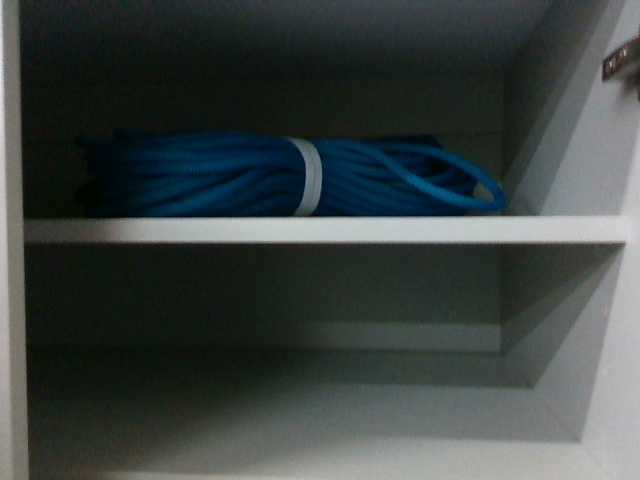rope: (128, 120, 505, 219)
